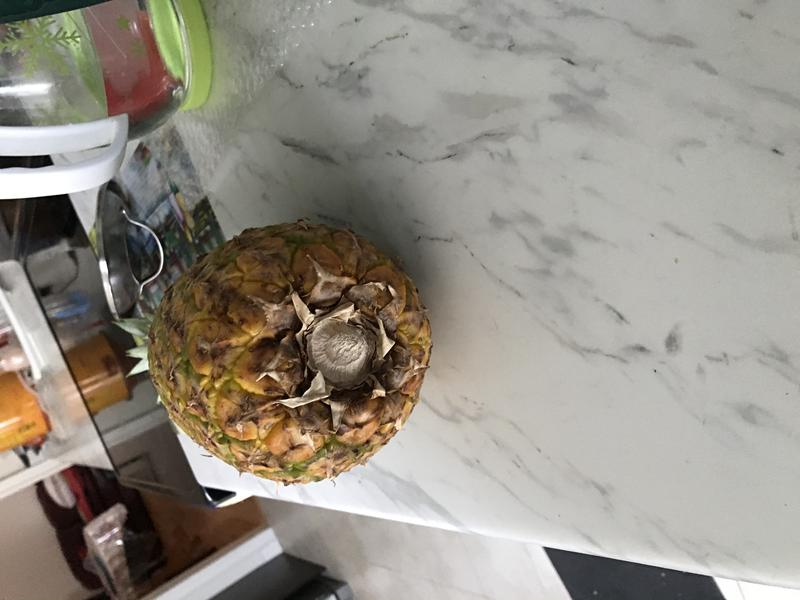pineapple: (85, 208, 444, 495)
